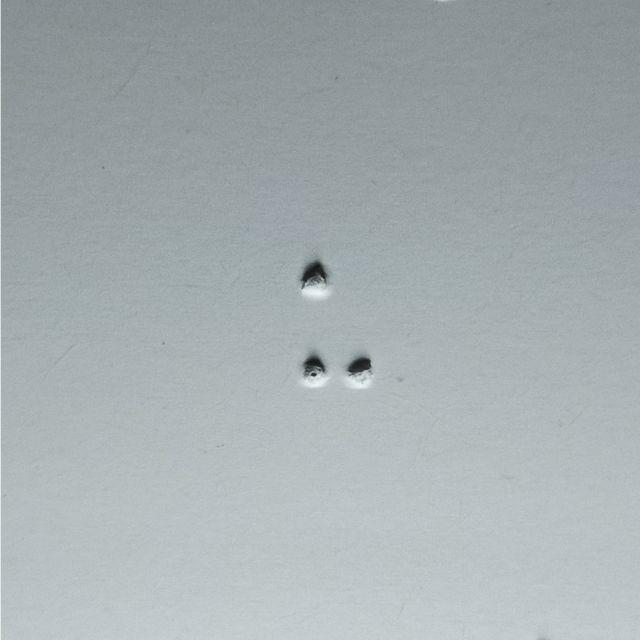u: (296, 265, 379, 392)
